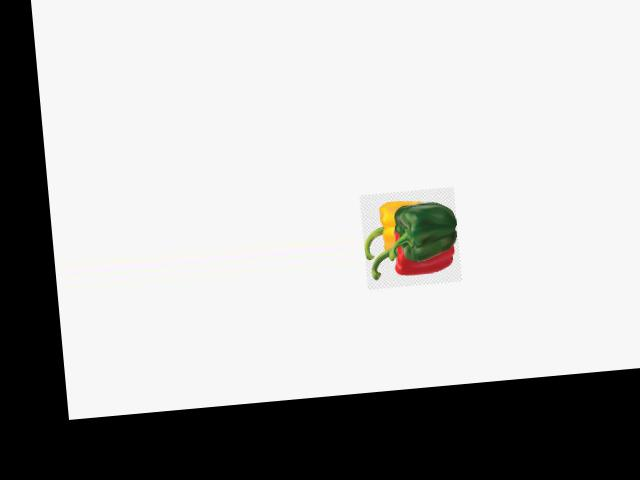bell_pepper: (366, 228, 459, 290)
